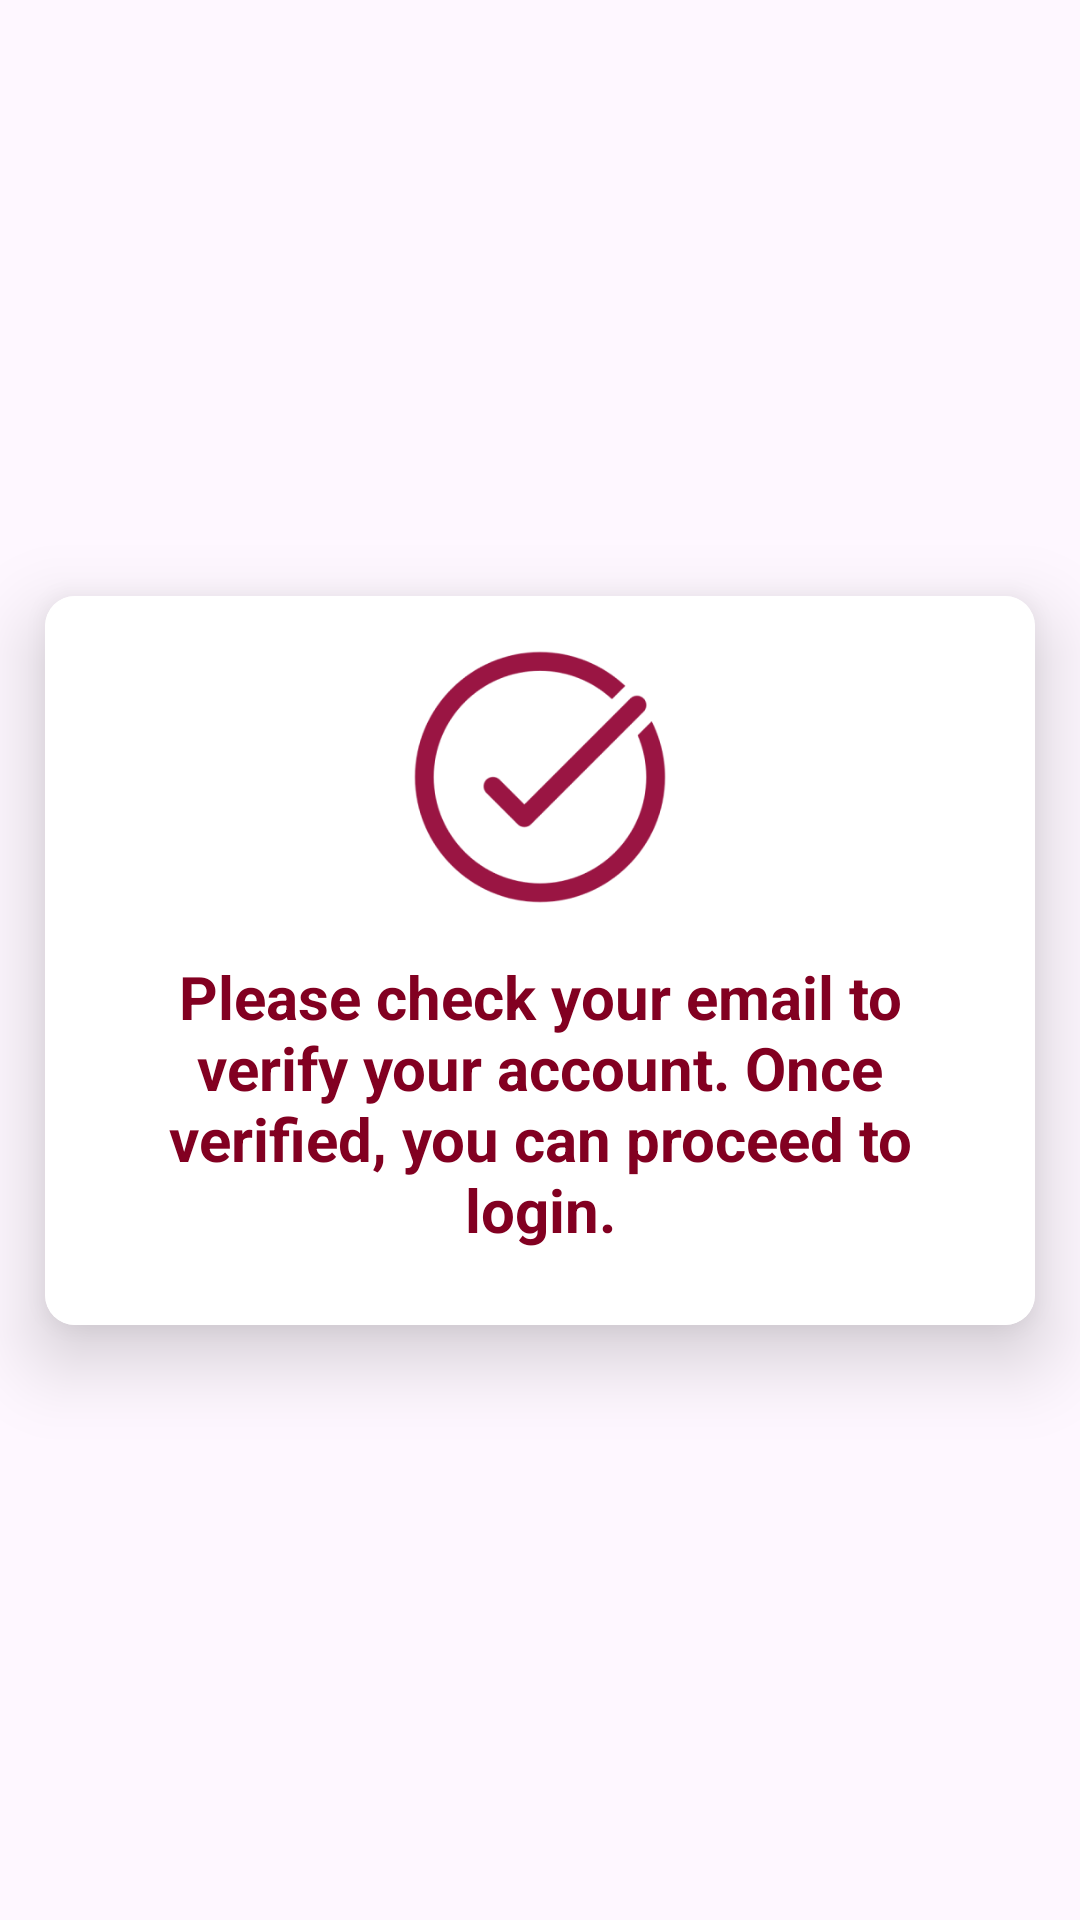

Named icons in this screenshot (1080*1920) and their bounding boxes, (left=x1, top=y1, right=x2, bottom=y2):
checkmark: (left=414, top=651, right=666, bottom=903)
